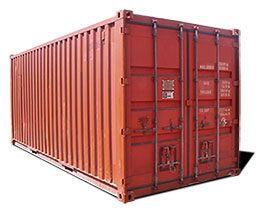container_door: (122, 6, 240, 190)
